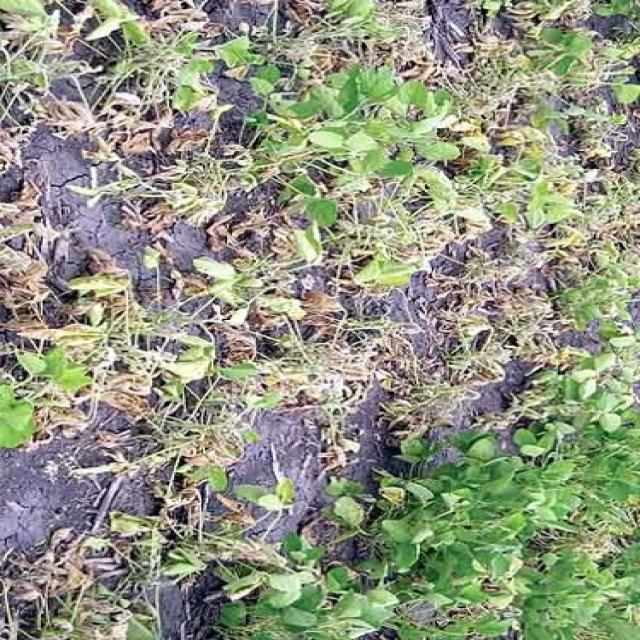Fusarium Wilt: (47, 65, 546, 462)
